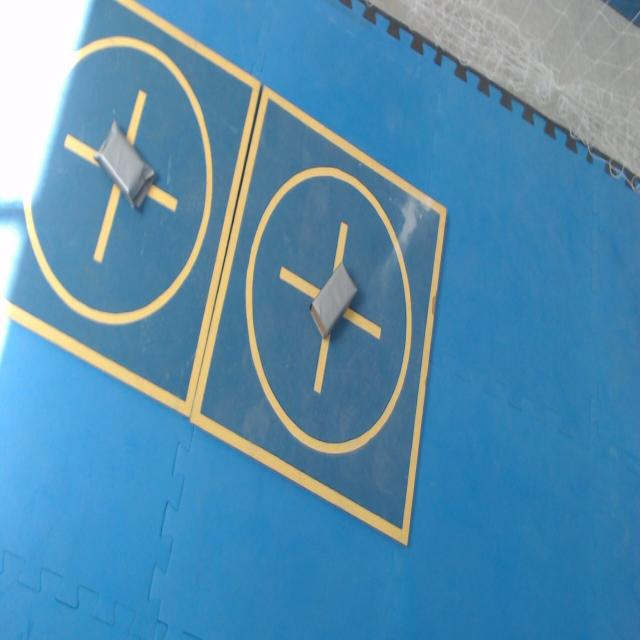direita: (311, 262, 356, 337)
esquerda: (95, 121, 154, 207)
